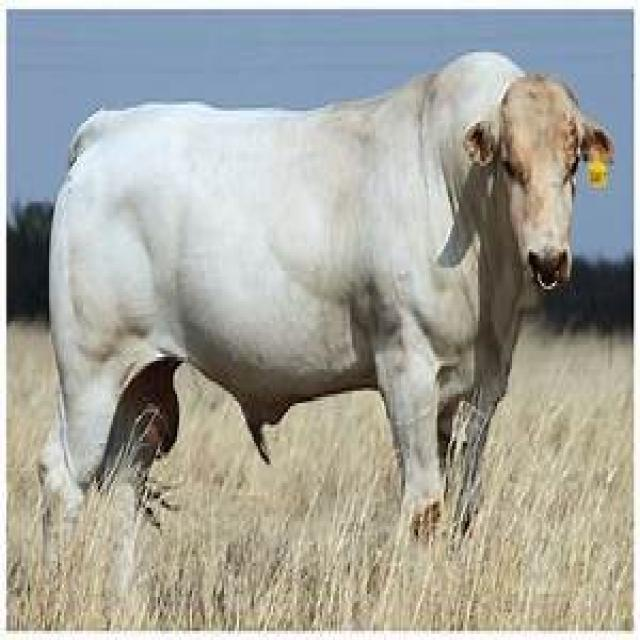cow: (47, 52, 614, 538)
